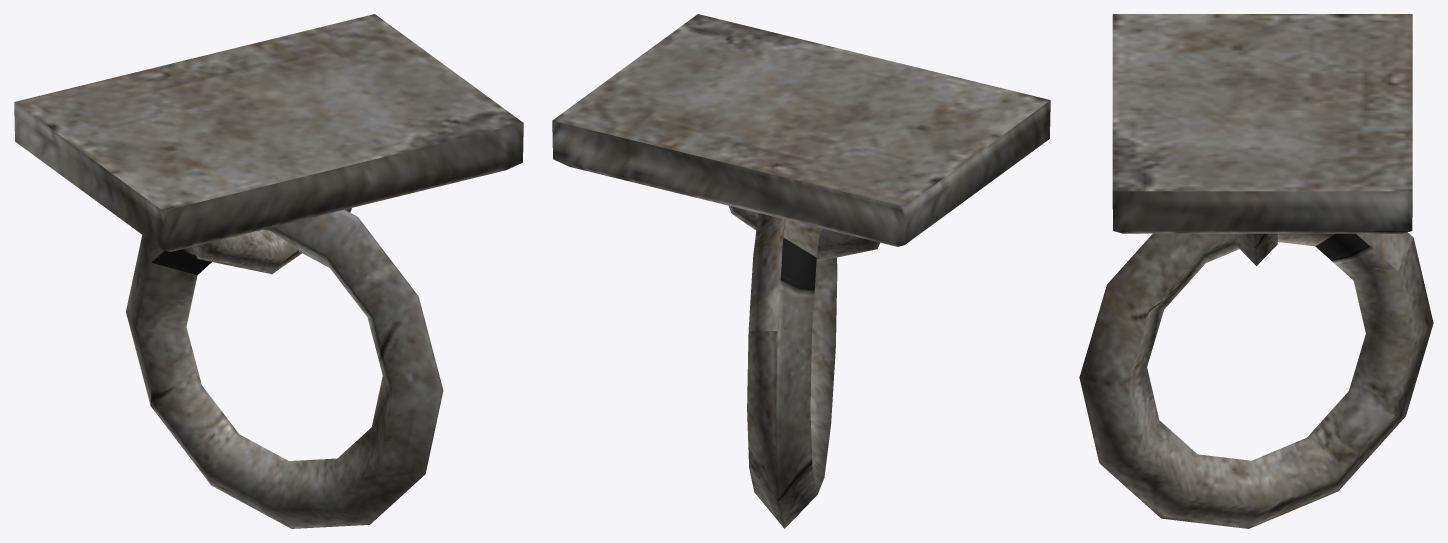
File: SM_GDC2012_Throne_Interior_Chain_04_Holder.FBX
The picture shows the model from 3 angles, left to right: view 1: azimuth 30°, elevation 25°; view 2: azimuth 150°, elevation 25°; view 3: azimuth 270°, elevation 25°; orthographic projection. The views are drawn at different scales.
Visible parts, largest first — view 1: SM_GDC2012_Throne_Interior_Chain_04_Holder; view 2: SM_GDC2012_Throne_Interior_Chain_04_Holder; view 3: SM_GDC2012_Throne_Interior_Chain_04_Holder.
Boxes of the visible parts, box(x1,y1,x2,y2) form: SM_GDC2012_Throne_Interior_Chain_04_Holder: box(14, 14, 523, 528); SM_GDC2012_Throne_Interior_Chain_04_Holder: box(552, 14, 1050, 528); SM_GDC2012_Throne_Interior_Chain_04_Holder: box(1079, 14, 1433, 528).
Size of what is drawn, in the model's own units: 62.78 by 52.96 by 69.06.
